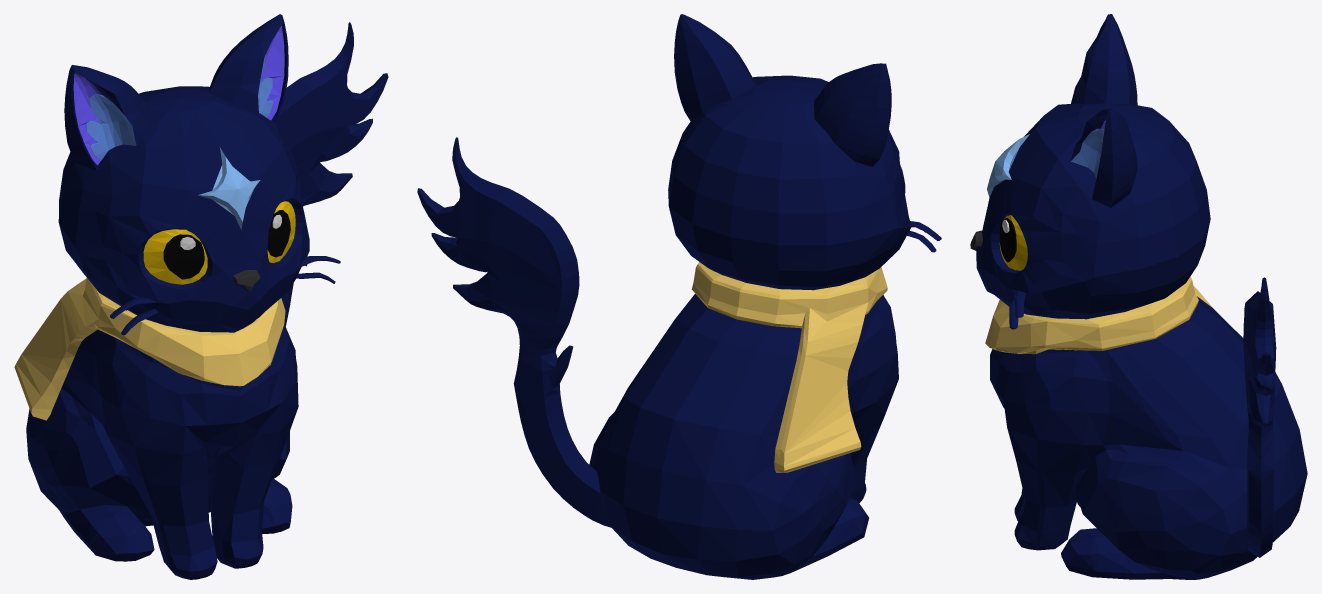
Rendered from CAT.fbx.
The picture shows the model from 3 angles, left to right: view 1: azimuth 30°, elevation 25°; view 2: azimuth 150°, elevation 25°; view 3: azimuth 270°, elevation 25°; orthographic projection. The views are drawn at different scales.
Visible parts, largest first — view 1: eefbb6482cad4b74a44caa44198f2760; view 2: eefbb6482cad4b74a44caa44198f2760; view 3: eefbb6482cad4b74a44caa44198f2760.
Part boxes in pixels (x1,y1,x2,y2): eefbb6482cad4b74a44caa44198f2760: (14,14,388,579); eefbb6482cad4b74a44caa44198f2760: (417,14,941,579); eefbb6482cad4b74a44caa44198f2760: (970,14,1307,579).
Size of the model in its own units: 163 by 190 by 124.
